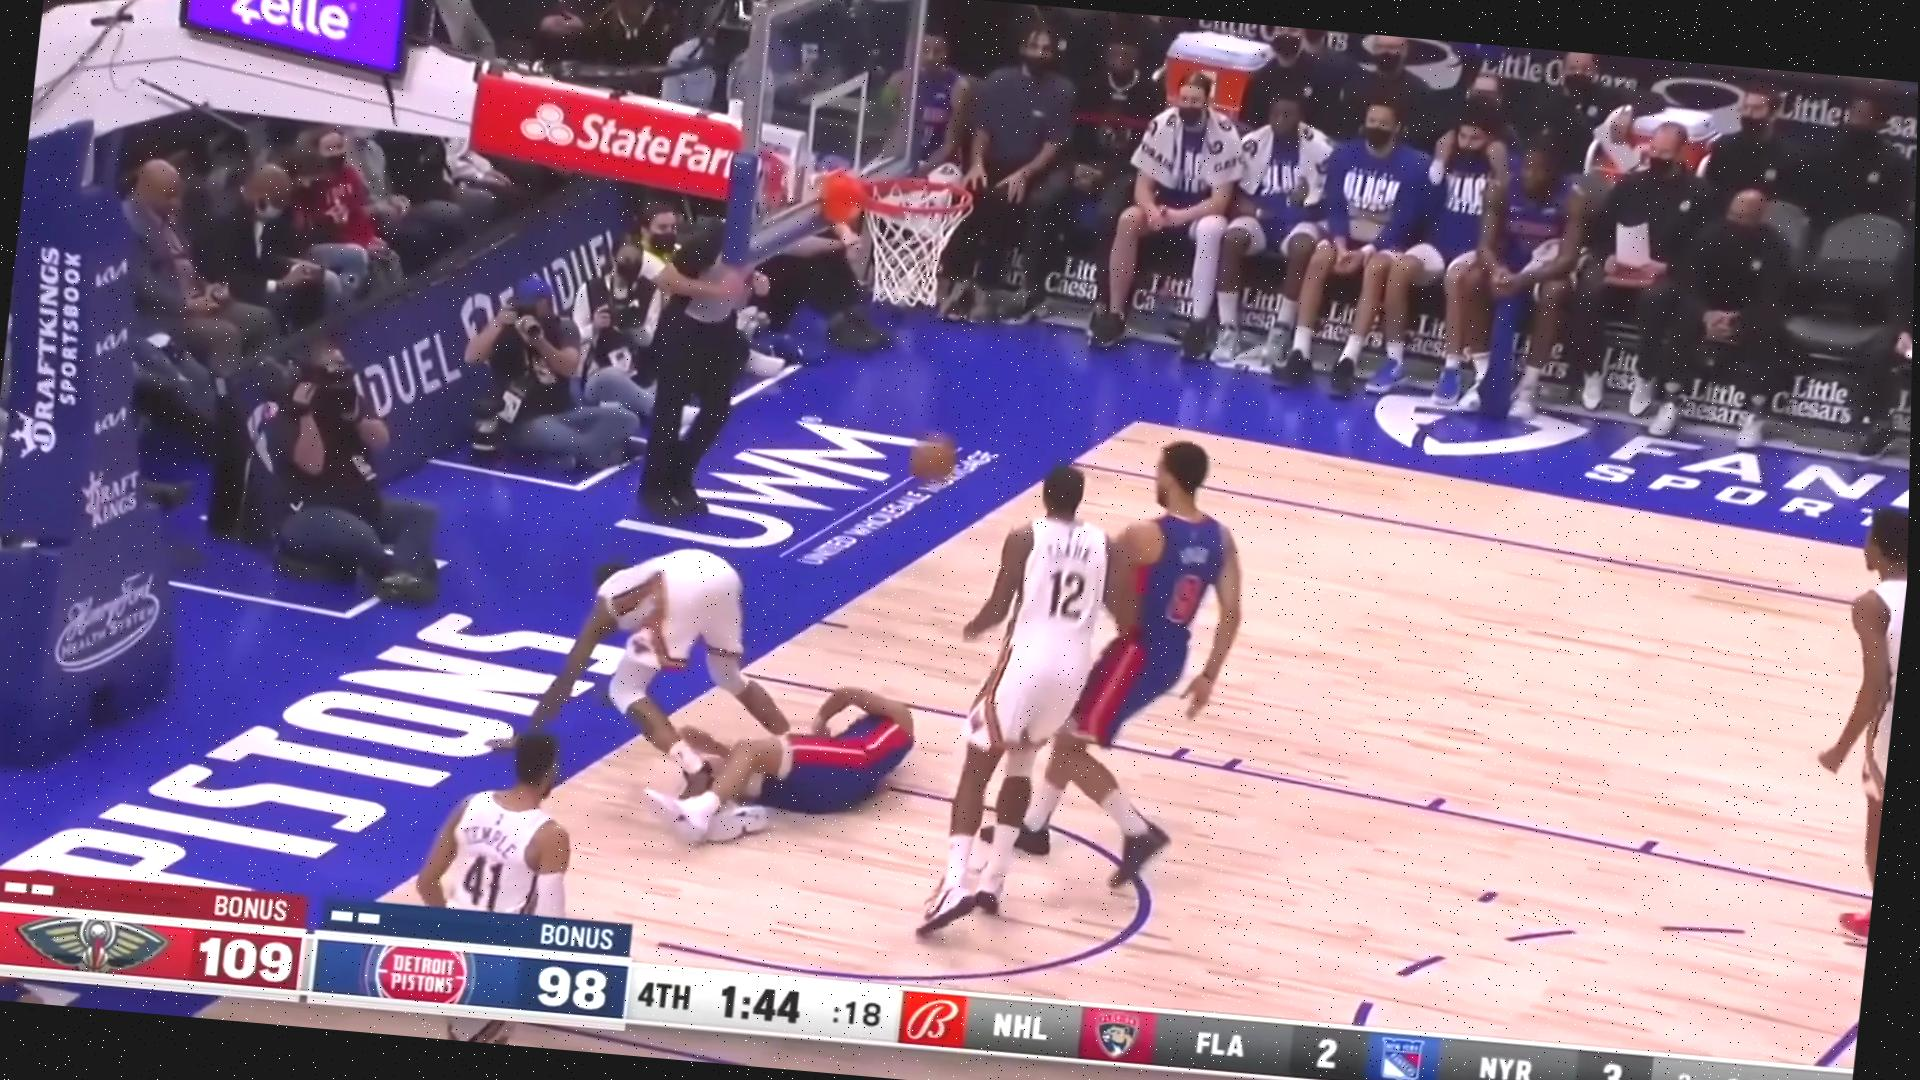foul: (527, 509, 944, 844)
